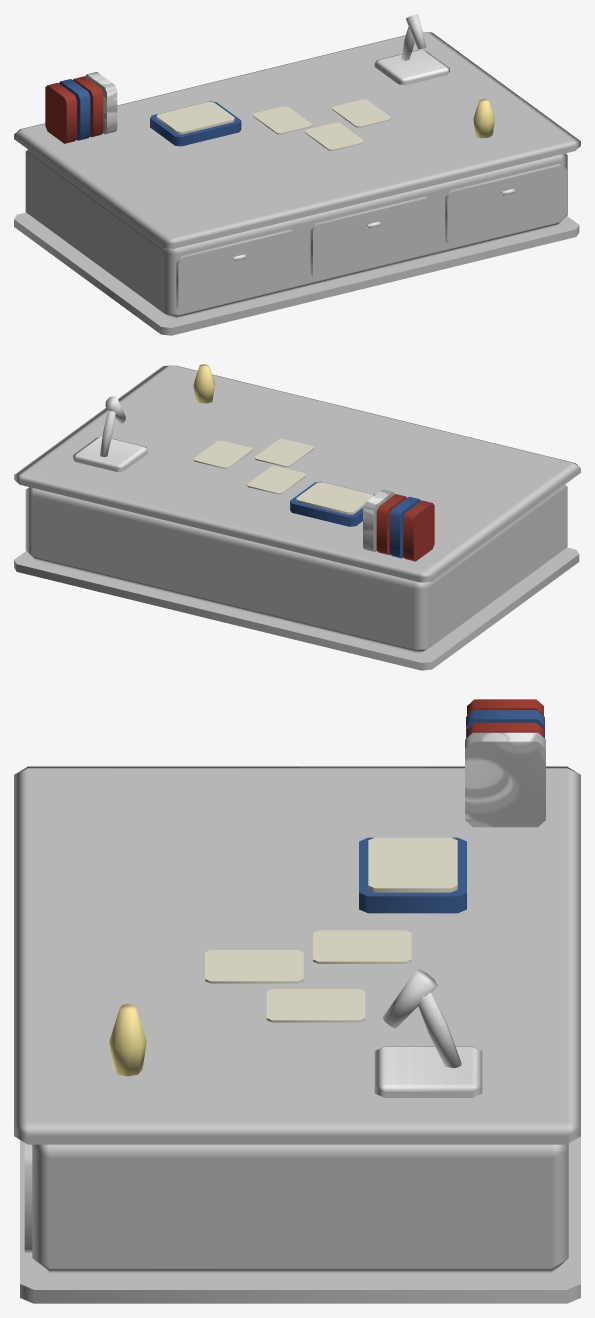
File: bench_research.obj
3 views of the same model, one above another, from view 1: azimuth 30°, elevation 25°; view 2: azimuth 150°, elevation 25°; view 3: azimuth 270°, elevation 25° (orthographic). The views are drawn at different scales.
Parts seen in each view (by area): view 1: flat_worktop, cabinet_body, toe_plinth, front_door_2, front_door_3, front_door_1, microscope_foot, standing_book_1, closed_book_pages, closed_book_cover, paper_sheet_1, paper_sheet_2 (+5 smaller); view 2: flat_worktop, cabinet_body, toe_plinth, standing_book_1, microscope_foot, closed_book_pages, paper_sheet_2, paper_sheet_3, paper_sheet_1, closed_book_cover, standing_book_2, standing_book_4 (+3 smaller); view 3: flat_worktop, cabinet_body, toe_plinth, standing_book_4, microscope_foot, closed_book_pages, closed_book_cover, paper_sheet_2, paper_sheet_1, paper_sheet_3, sample_flask, microscope_stand (+5 smaller).
Boxes of the visible parts, left/top/right/bottom form: flat_worktop: left=14, top=31, right=580, bottom=248; cabinet_body: left=25, top=149, right=567, bottom=319; toe_plinth: left=14, top=212, right=579, bottom=335; front_door_2: left=310, top=196, right=432, bottom=280; front_door_3: left=445, top=163, right=566, bottom=247; front_door_1: left=176, top=229, right=297, bottom=312; microscope_foot: left=374, top=50, right=449, bottom=85; standing_book_1: left=45, top=82, right=76, bottom=143; closed_book_pages: left=156, top=101, right=234, bottom=134; closed_book_cover: left=150, top=101, right=241, bottom=146; paper_sheet_1: left=304, top=122, right=364, bottom=150; paper_sheet_2: left=332, top=99, right=391, bottom=127; flat_worktop: left=14, top=365, right=580, bottom=582; cabinet_body: left=25, top=484, right=567, bottom=653; toe_plinth: left=14, top=547, right=579, bottom=670; standing_book_1: left=403, top=500, right=434, bottom=561; microscope_foot: left=72, top=436, right=147, bottom=471; closed_book_pages: left=296, top=482, right=373, bottom=514; paper_sheet_2: left=193, top=440, right=252, bottom=468; paper_sheet_3: left=247, top=466, right=306, bottom=494; paper_sheet_1: left=254, top=439, right=313, bottom=467; closed_book_cover: left=290, top=481, right=374, bottom=526; standing_book_2: left=389, top=496, right=420, bottom=558; standing_book_4: left=363, top=489, right=395, bottom=552; flat_worktop: left=14, top=766, right=580, bottom=1144; cabinet_body: left=32, top=1144, right=568, bottom=1273; toe_plinth: left=20, top=1136, right=580, bottom=1303; standing_book_4: left=465, top=732, right=545, bottom=827; microscope_foot: left=374, top=1046, right=482, bottom=1097; closed_book_pages: left=368, top=837, right=457, bottom=892; closed_book_cover: left=359, top=837, right=466, bottom=913; paper_sheet_2: left=266, top=989, right=365, bottom=1022; paper_sheet_1: left=205, top=950, right=303, bottom=983; paper_sheet_3: left=313, top=930, right=411, bottom=963; sample_flask: left=109, top=1004, right=146, bottom=1076; microscope_stand: left=418, top=992, right=461, bottom=1068.
Size of the model in its own units: 2.84 by 1.01 by 1.84.
